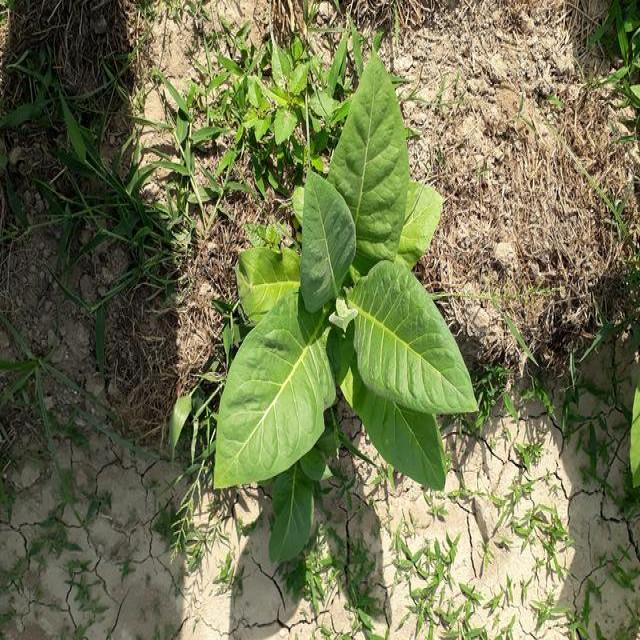crop: (220, 43, 471, 588)
